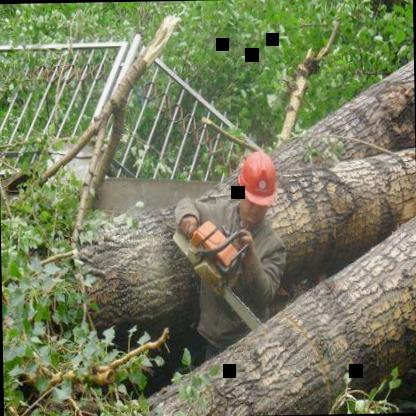helmet: (233, 145, 280, 225)
